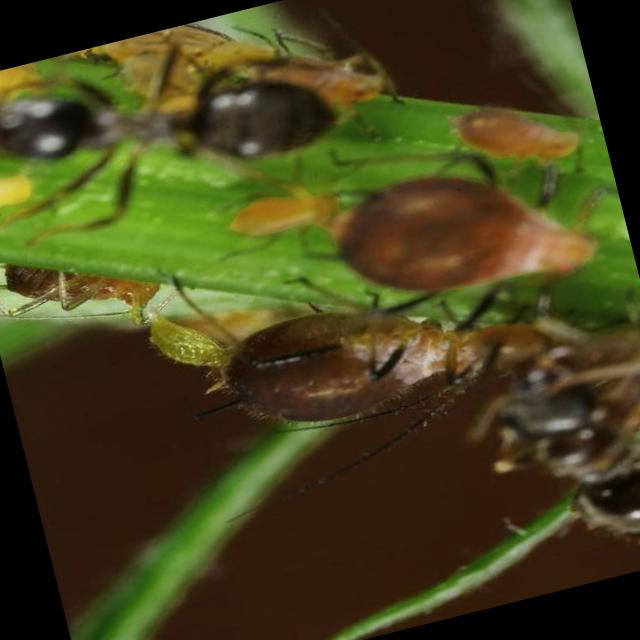aphid: (160, 238, 538, 514)
